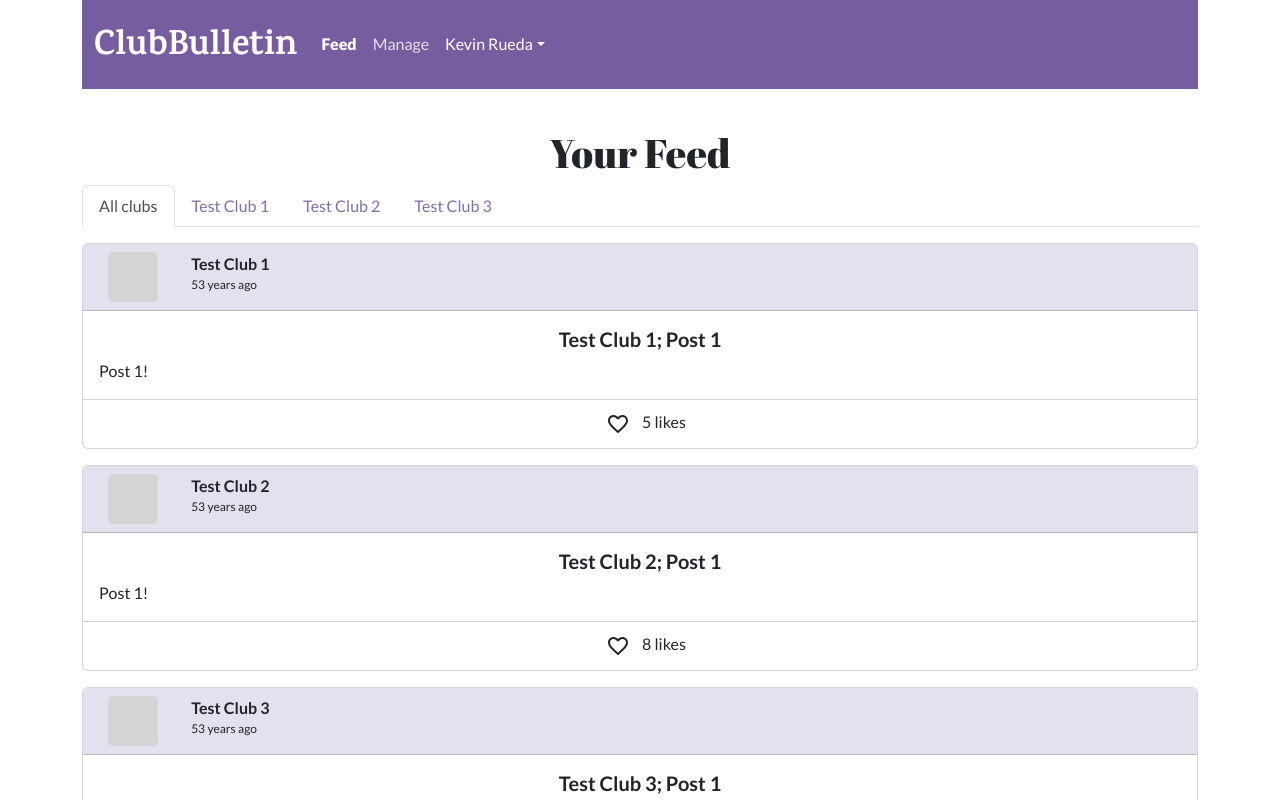
it: Mock Feed when the user is subscribed to clubs with posts › Clicking on club tab for Test Club 1 renders its corresponding posts
Step 1. Click the link with test id "feed-club-selector-button" showing "Test Club 1" → (230, 205), box x1=192 y1=196 x2=269 y2=214
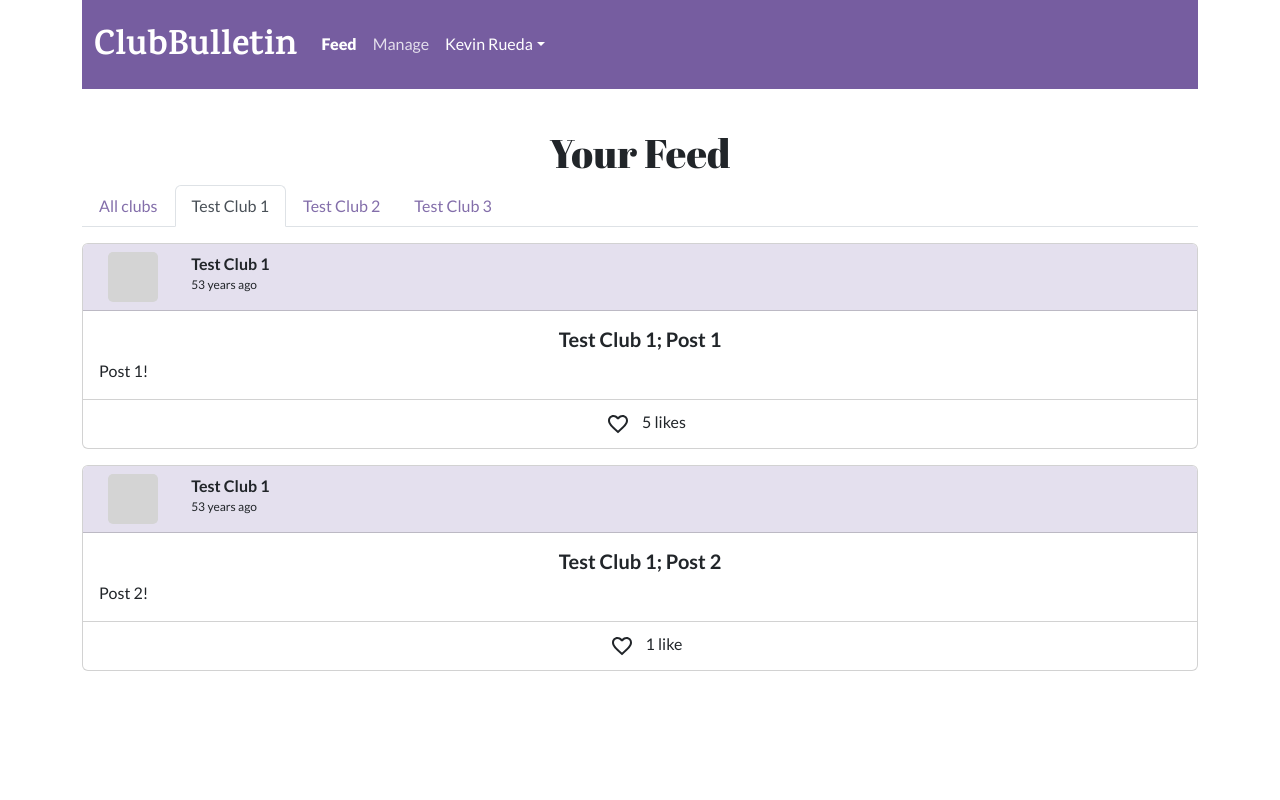
Expected: the 1st text "Test Club 1" is shown, x1=191 y1=254 x2=270 y2=272
Expected: the number of elements with test id "feed-post" is 2, x1=82 y1=242 x2=1198 y2=448; x1=82 y1=464 x2=1198 y2=670
Step 2. Click the icon in the row of "likes" → (618, 424), box x1=606 y1=412 x2=630 y2=436
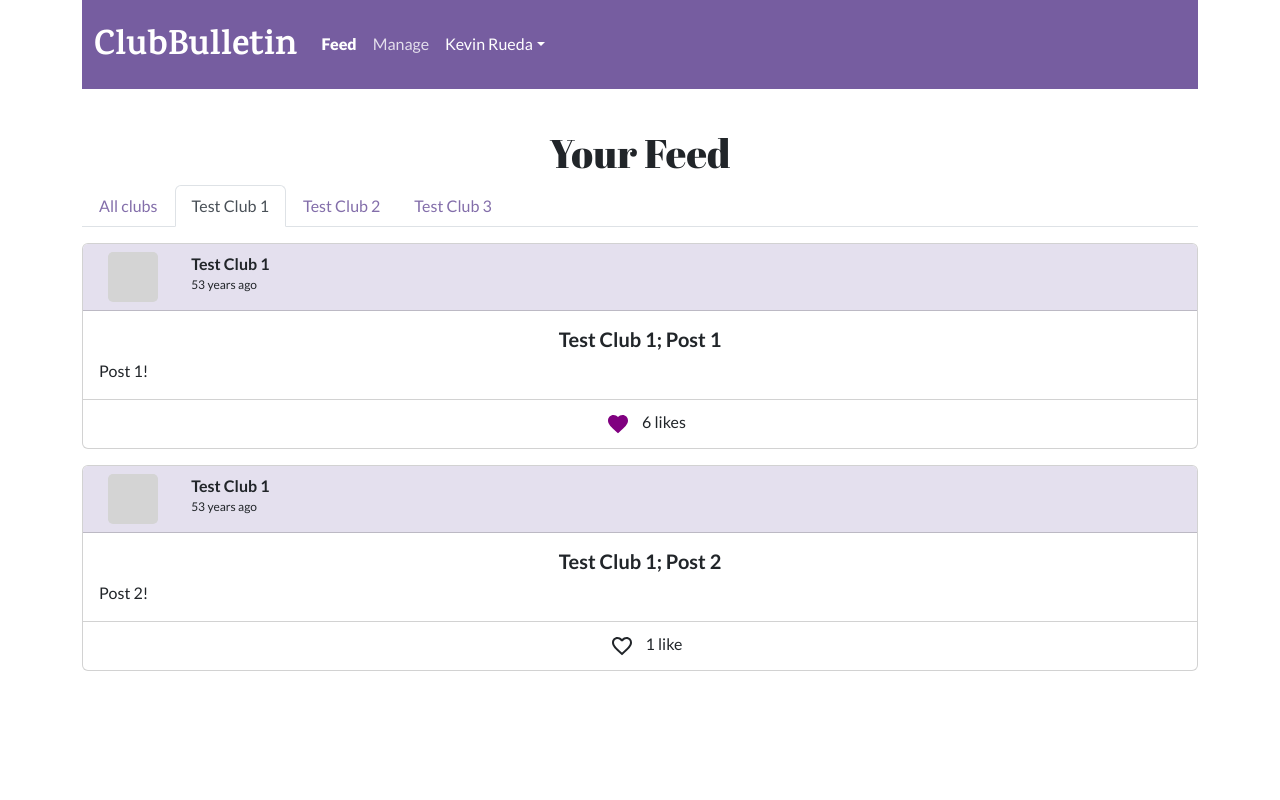
Expected: the 2nd text "Test Club 1" is shown, x1=191 y1=476 x2=270 y2=494
Expected: the element showing "6 likes" is shown, x1=606 y1=412 x2=686 y2=436
Expected: the icon in the row of "likes" is shown, x1=606 y1=412 x2=630 y2=436
Step 3. Click the icon below "Test Club 1; Post 2" → (622, 646), box x1=610 y1=634 x2=634 y2=658
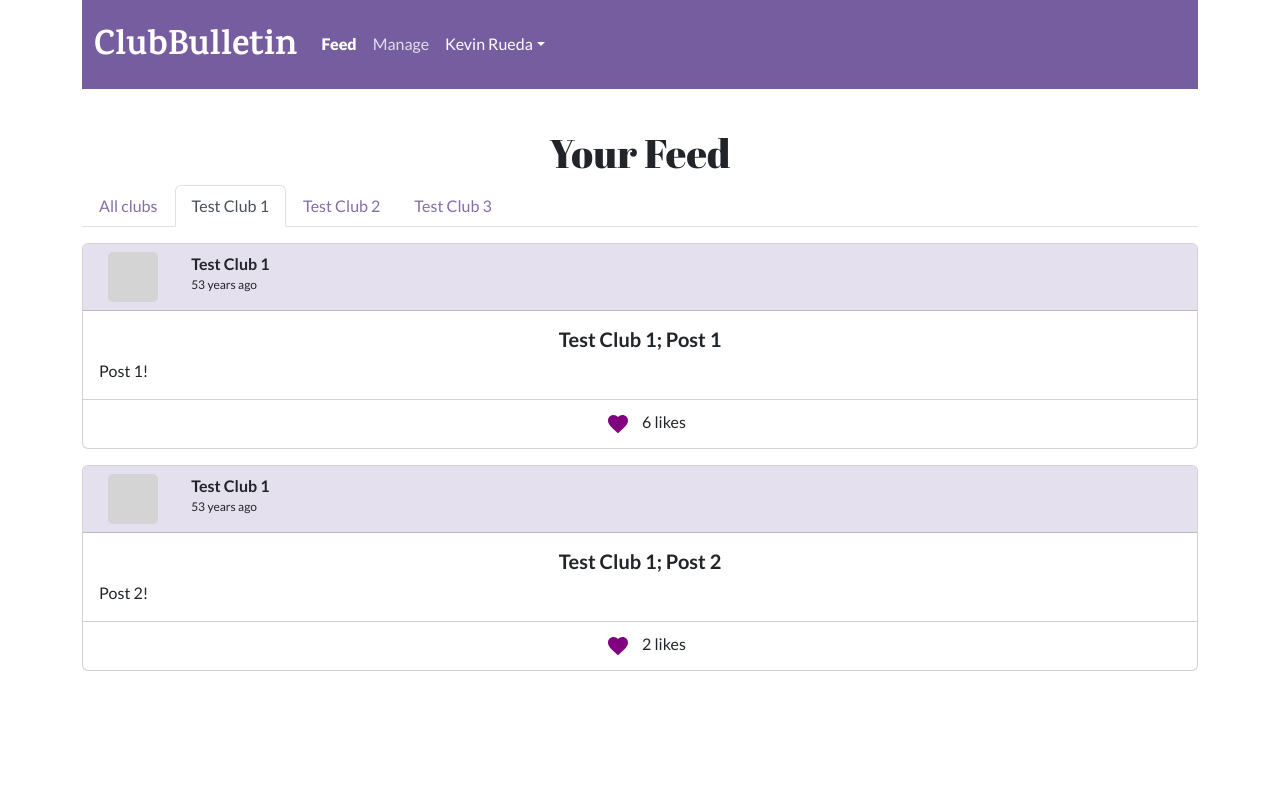
Expected: the element showing "2 likes" is shown, x1=606 y1=634 x2=686 y2=658
Expected: the icon is gone
Expected: the icon below "Test Club 1; Post 2" is shown, x1=606 y1=634 x2=630 y2=658
